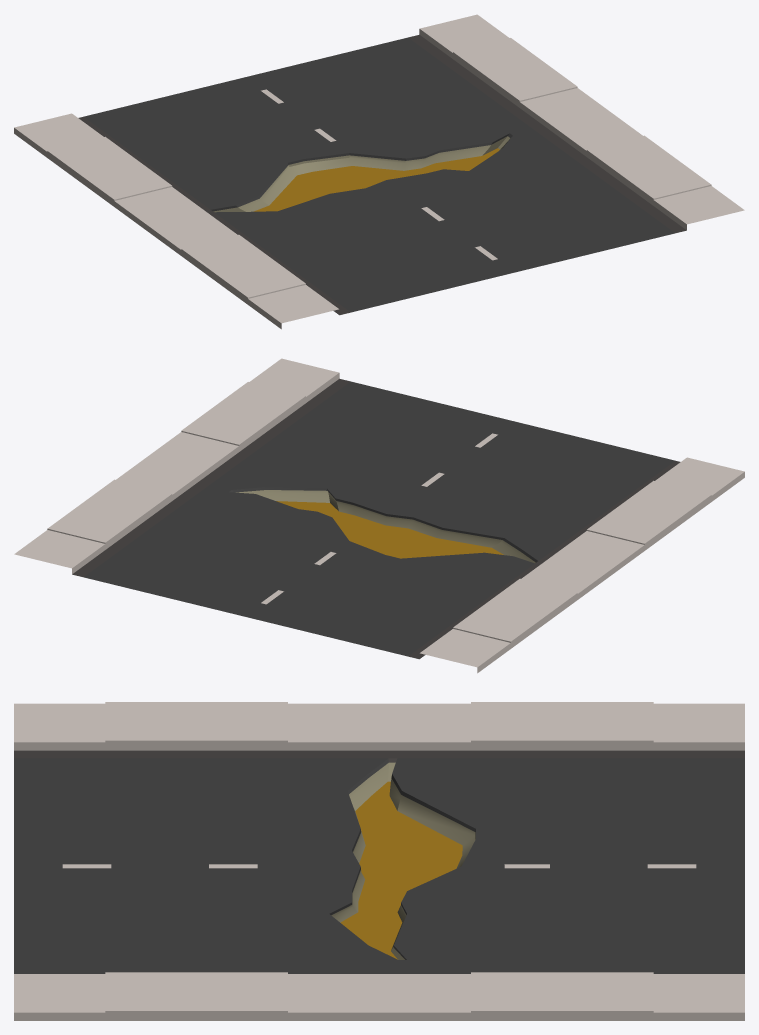
The model's file is street_crack1.glb.
3 renders of one model, top to bottom at view 1: azimuth 30°, elevation 25°; view 2: azimuth 150°, elevation 25°; view 3: azimuth 270°, elevation 25°, orthographic. The views are drawn at different scales.
Visible parts, largest first — view 1: Street_Straight_Crack1; view 2: Street_Straight_Crack1; view 3: Street_Straight_Crack1.
Boxes of the visible parts, left/top/right/bottom form: Street_Straight_Crack1: left=14, top=14, right=744, bottom=329; Street_Straight_Crack1: left=14, top=358, right=744, bottom=673; Street_Straight_Crack1: left=14, top=702, right=744, bottom=1020.
Size of the model in its own units: 8 by 0.2852 by 8.
1 material, 1 textured.
